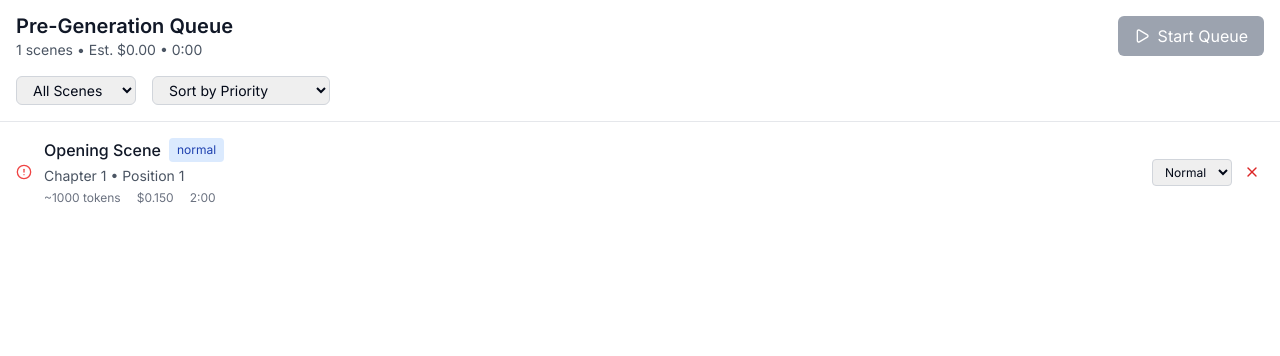
Test: PreGenerationQueue › Error Handling › displays error message for failed scenes
Note: Expand to see error
Click the text "Opening Scene" at (103, 150), box [0,122,1279,222]
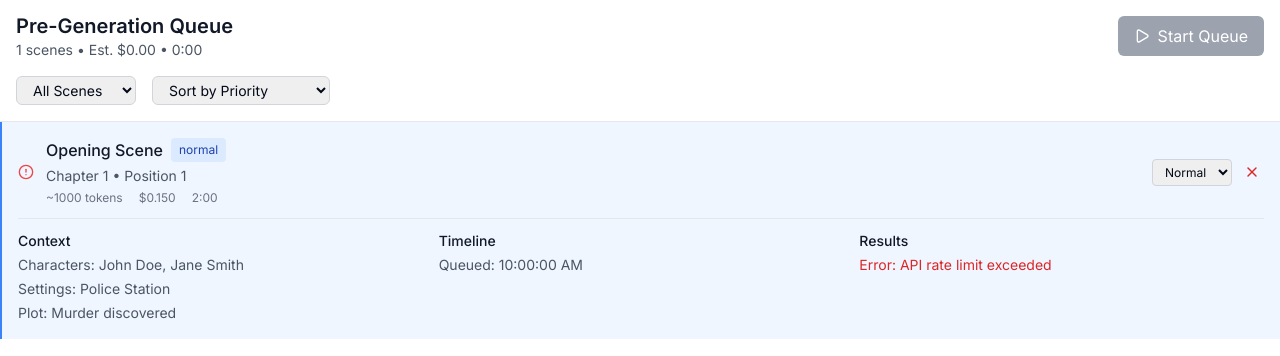
Result: the text "Error: API rate limit exceeded" is shown at [859,256,1052,273]
